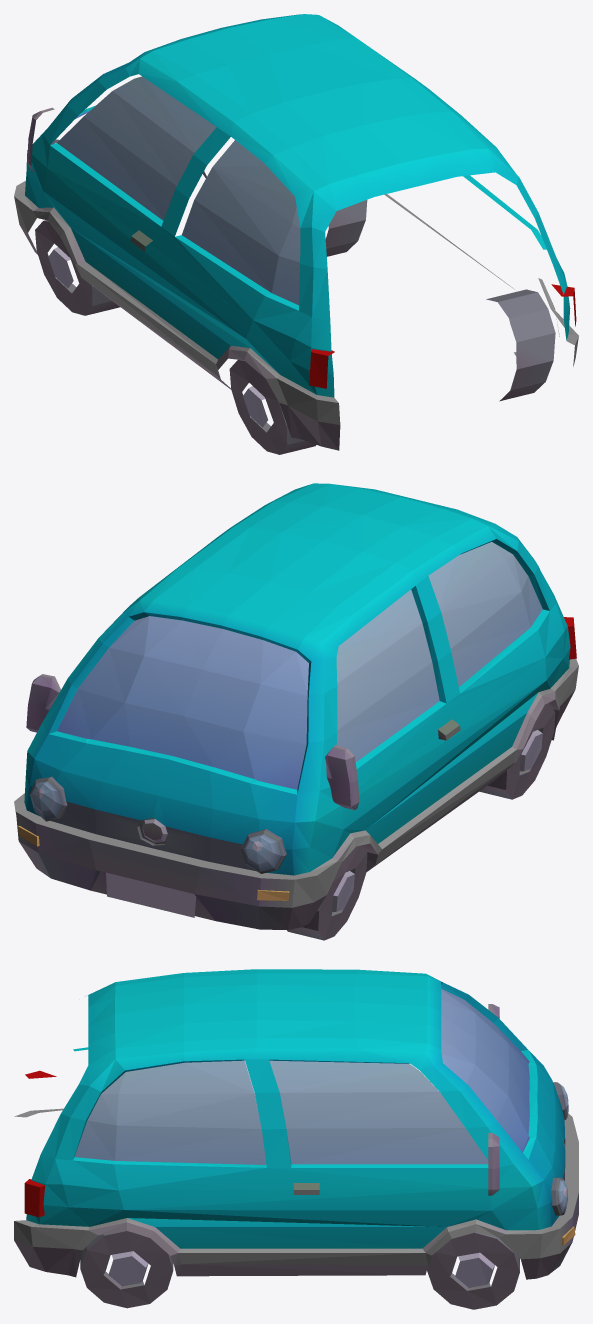
Rendered from city_single2_car04.glb.
3 renders of one model, top to bottom at view 1: azimuth 30°, elevation 25°; view 2: azimuth 150°, elevation 25°; view 3: azimuth 270°, elevation 25°, orthographic. The views are drawn at different scales.
Visible parts, largest first — view 1: city_single2_car04; view 2: city_single2_car04; view 3: city_single2_car04.
Part boxes in pixels (bbox=[...]): city_single2_car04: bbox=[14, 14, 578, 454]; city_single2_car04: bbox=[14, 483, 578, 940]; city_single2_car04: bbox=[14, 969, 578, 1309].
Size of the model in its own units: 1.09 by 0.8741 by 1.79.
